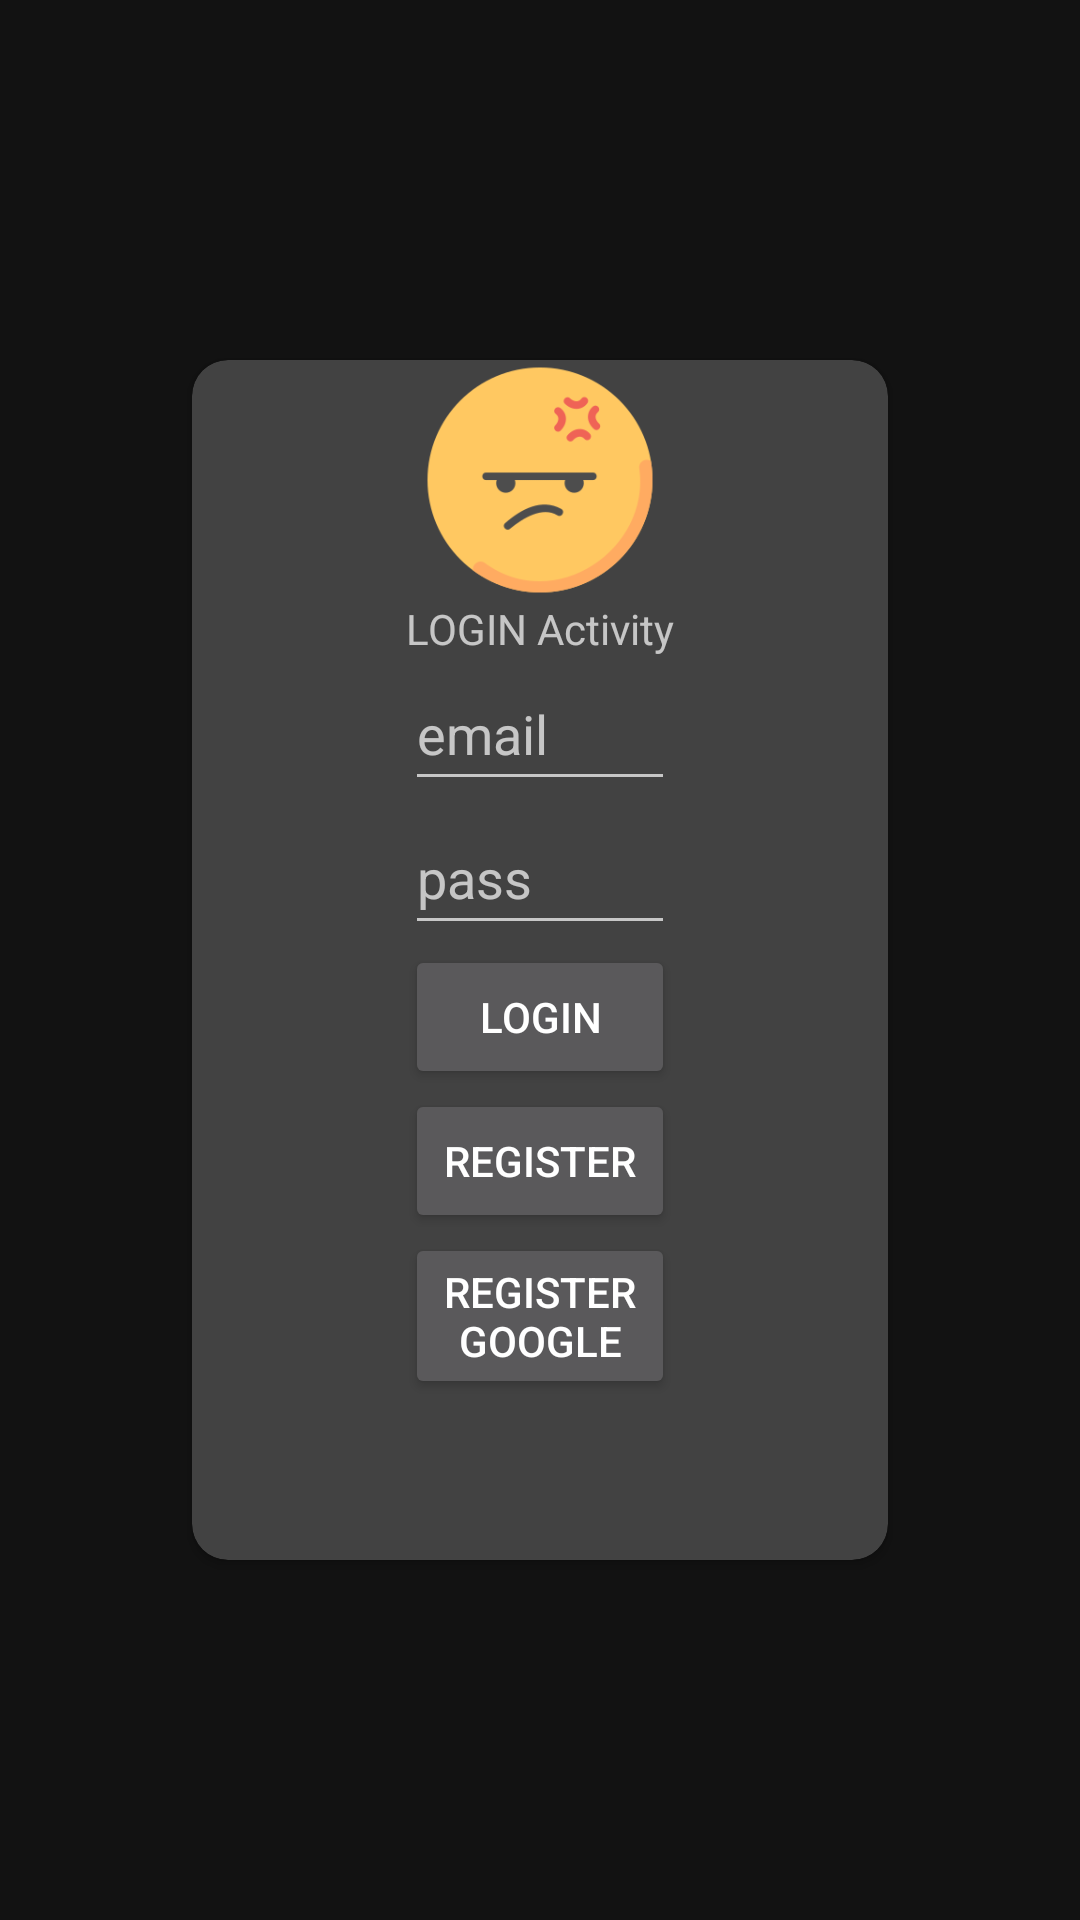

Named icons in this screenshot (1080×1920) and their bounding boxes, {"x1": x1, "y1": y1, "x2": x2, "y2": y2}:
cara fea: {"x1": 427, "y1": 367, "x2": 653, "y2": 593}
